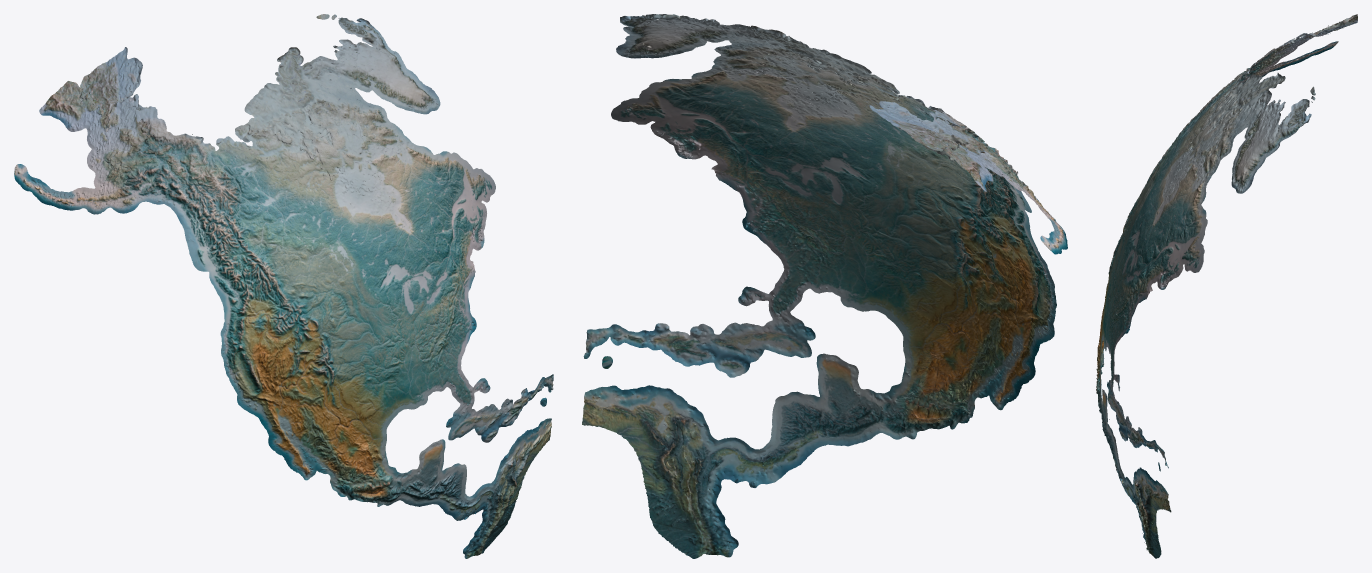
Rendered from namap.glb.
3 views of the same model, side by side, from view 1: azimuth 30°, elevation 25°; view 2: azimuth 150°, elevation 25°; view 3: azimuth 270°, elevation 25° (orthographic). The views are drawn at different scales.
Visible parts, largest first — view 1: Object_2, Object_4, Object_3, Object_5; view 2: Object_2, Object_4, Object_5, Object_3; view 3: Object_4, Object_2, Object_3, Object_5.
Part boxes in pixels (x1,y1,x2,y2): Object_2: [39, 14, 553, 518]; Object_4: [77, 53, 553, 558]; Object_3: [14, 17, 545, 545]; Object_5: [228, 261, 526, 520]; Object_2: [583, 14, 1031, 475]; Object_4: [582, 22, 1056, 558]; Object_5: [659, 153, 1055, 497]; Object_3: [616, 14, 1067, 487]; Object_4: [1117, 49, 1274, 558]; Object_2: [1096, 18, 1357, 492]; Object_3: [1098, 14, 1357, 542]; Object_5: [1112, 193, 1141, 517].
Bounding box in the file's own units: 7.44 × 7.86 × 4.25.
Materials: 1 (1 with a texture image).
